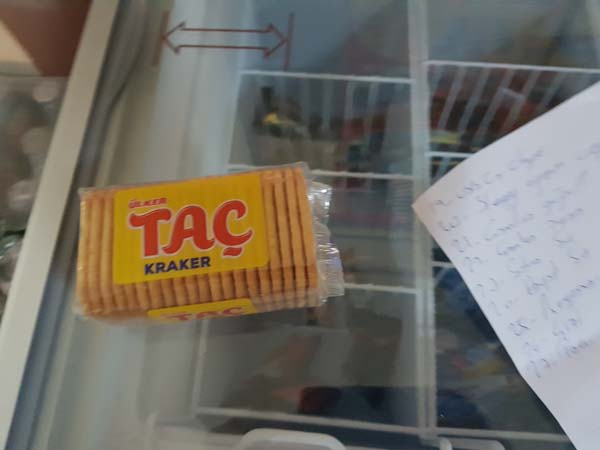tackraker: (61, 159, 349, 327)
